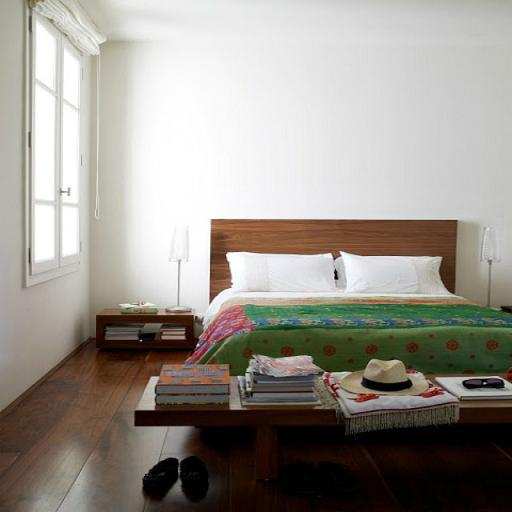bed: (152, 177, 512, 385)
